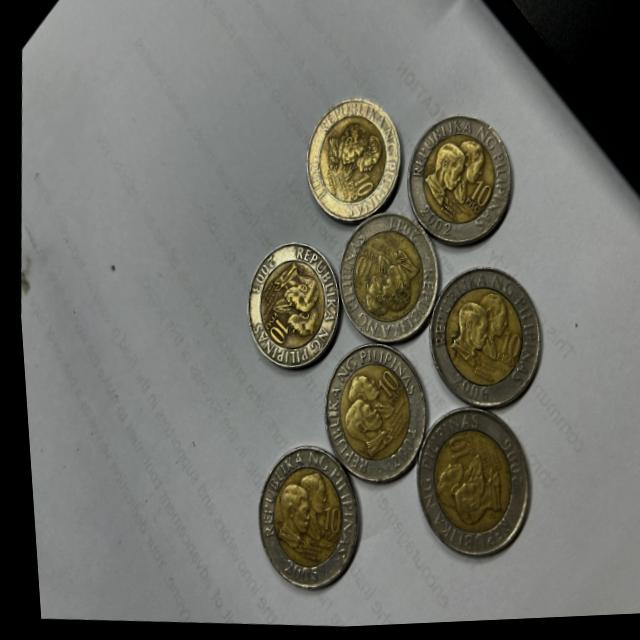10_Old_Front: (464, 180, 492, 215), (311, 504, 334, 537), (492, 333, 517, 361), (349, 257, 370, 289), (439, 436, 462, 465), (349, 173, 374, 199), (373, 370, 395, 399), (265, 319, 284, 347)
